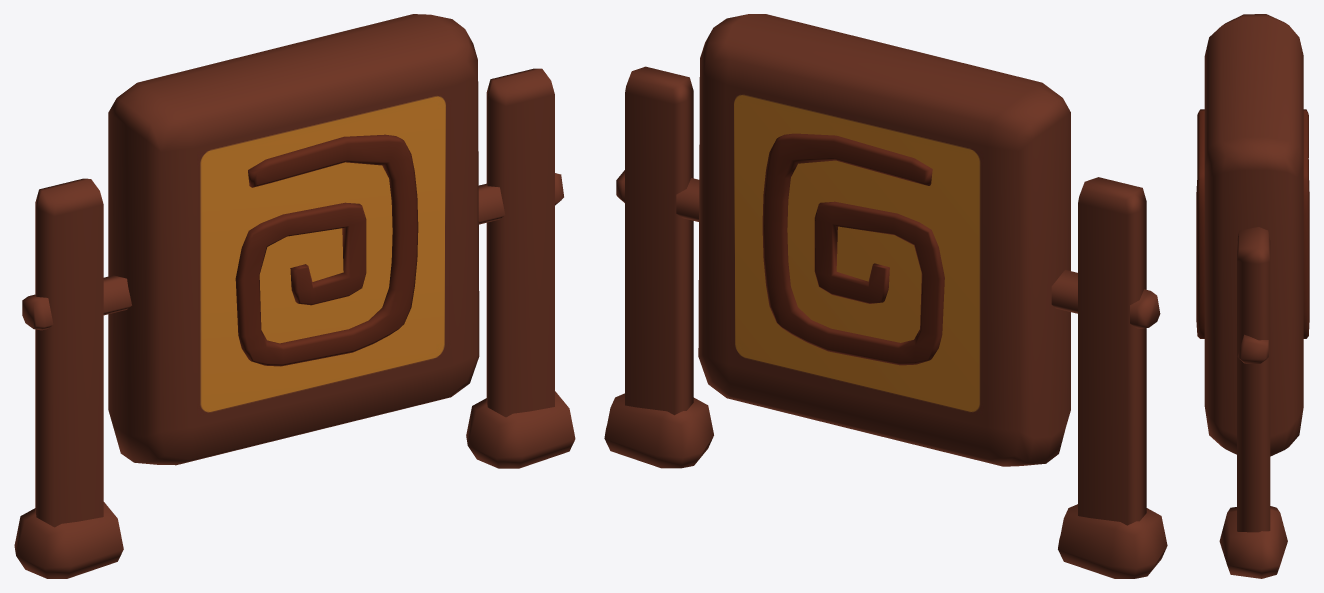
Rendered from ButtonLow.fbx.
3 renders of one model, left to right at view 1: azimuth 30°, elevation 25°; view 2: azimuth 150°, elevation 25°; view 3: azimuth 270°, elevation 25°, orthographic. The views are drawn at different scales.
Visible parts, largest first — view 1: Button11; view 2: Button11; view 3: Button11.
Part boxes in pixels (left/top/right/bottom): Button11: left=14, top=14, right=575, bottom=578; Button11: left=604, top=14, right=1167, bottom=578; Button11: left=1196, top=14, right=1309, bottom=578.
Size of the model in its own units: 1.45 by 1.16 by 0.2995.
